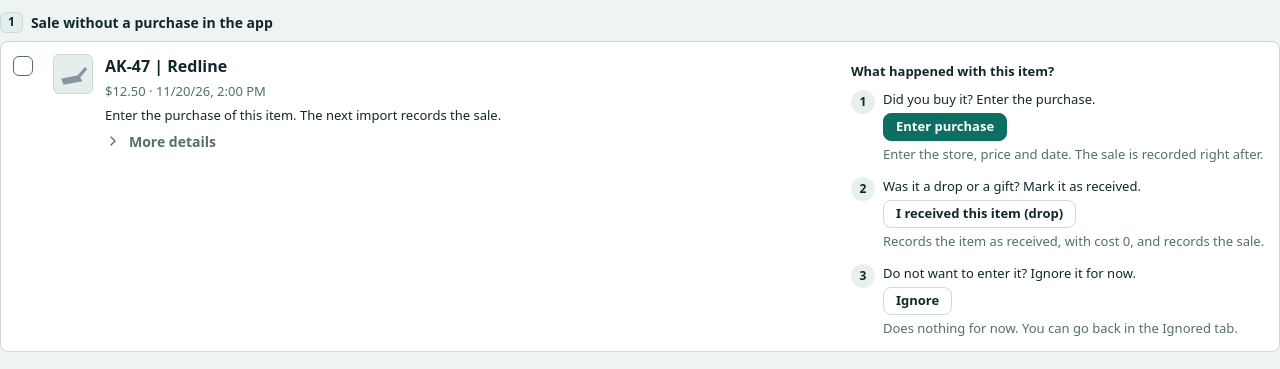
ImportEntriesList: escolhas, passos e lote › Ignorar sem data de corte: o aviso não oferece "Desfazer"
Click the button "Ignore" at (918, 301), box [883,287,952,315]
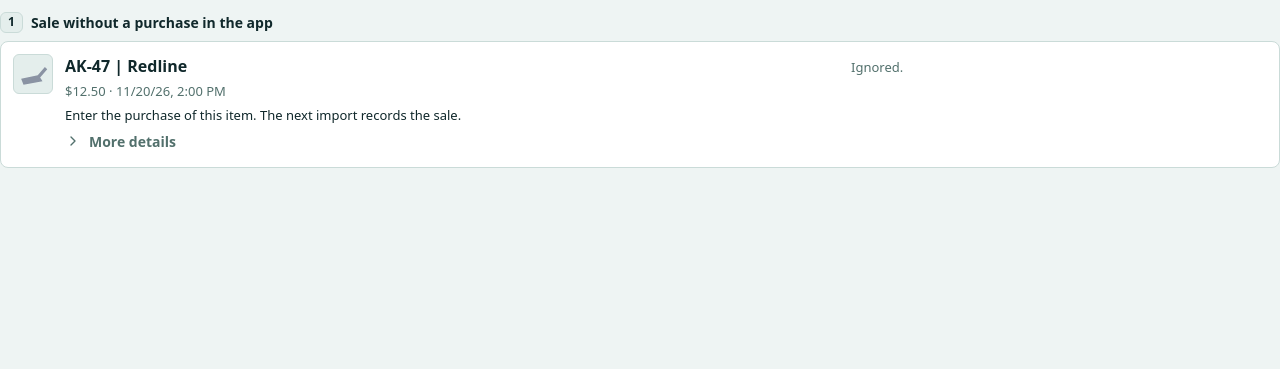
Expected: the text "Ignored." is shown, [851,58,903,76]
